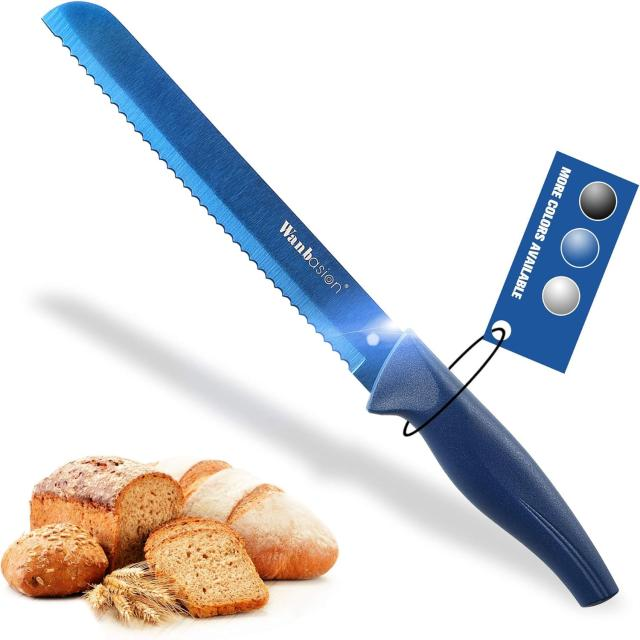Knife: (43, 2, 617, 606)
